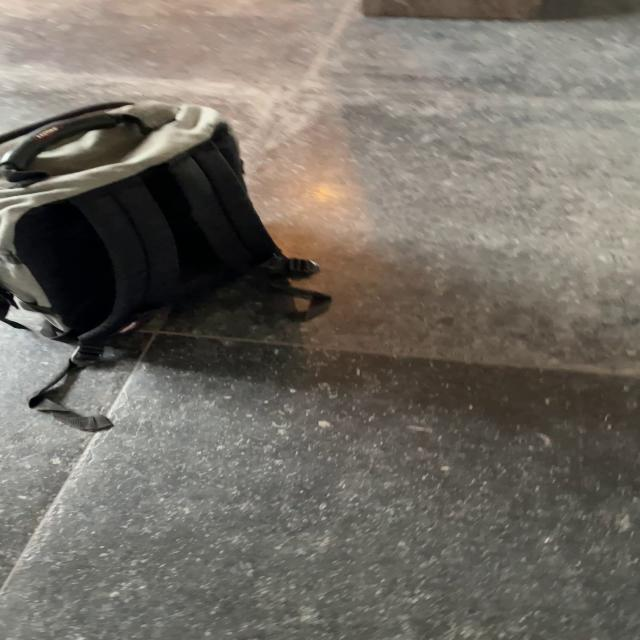backpack: (1, 96, 313, 350)
